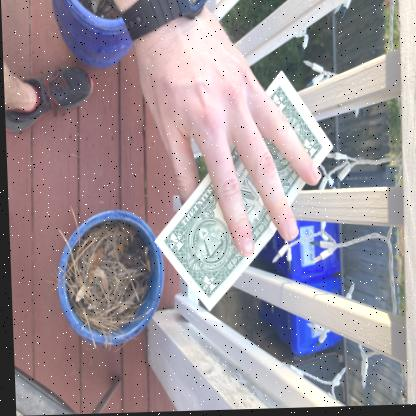one-back: (153, 71, 334, 310)
